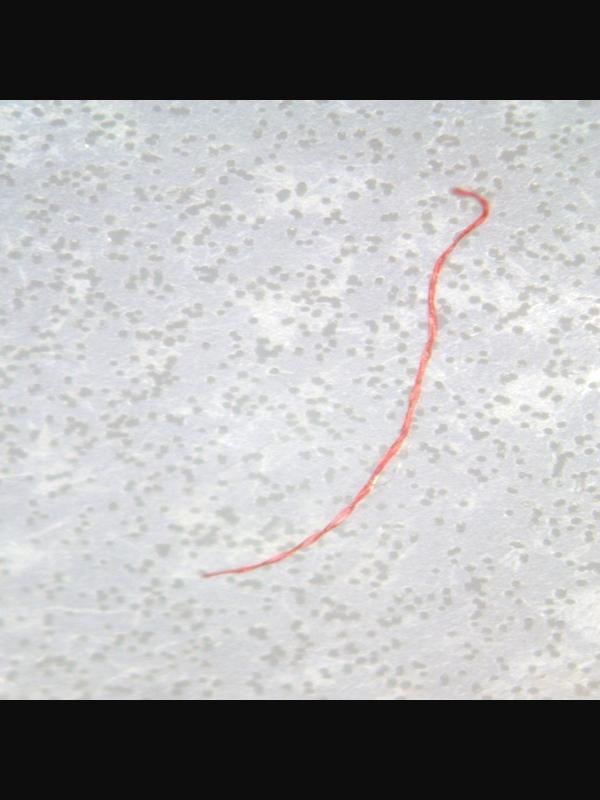microplastic: (199, 187, 493, 580)
